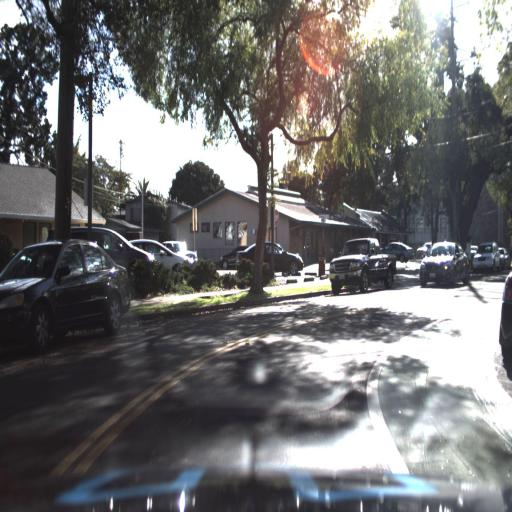car: (0, 239, 133, 357), (94, 224, 158, 289), (331, 238, 399, 288), (419, 239, 473, 288), (224, 242, 294, 274), (130, 242, 192, 276), (153, 242, 193, 293), (376, 228, 417, 267), (472, 238, 501, 277), (216, 240, 246, 276), (163, 241, 201, 259), (219, 243, 247, 266), (494, 239, 509, 271), (466, 238, 482, 264)
